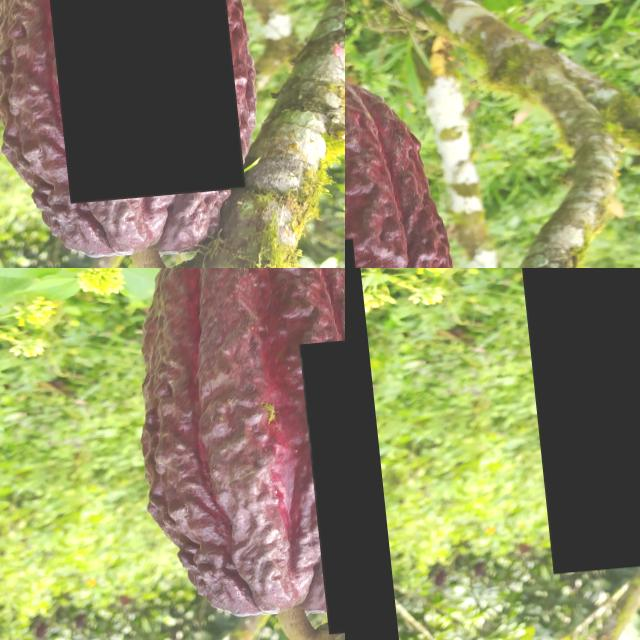Monilia: (35, 0, 235, 207)
Sana: (507, 268, 640, 576), (409, 46, 561, 268), (293, 338, 345, 640)
